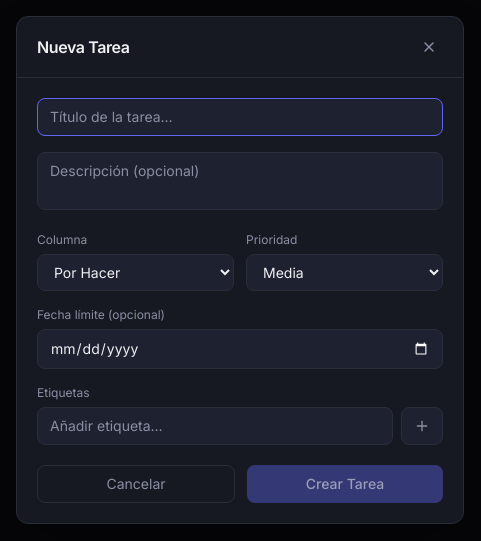
CreateTaskModal — validación › habilita el botón Crear Tarea cuando hay título
Type "Mi tarea" into the field with placeholder "Título de la tarea…" at (240, 117), box [37,98,443,136]
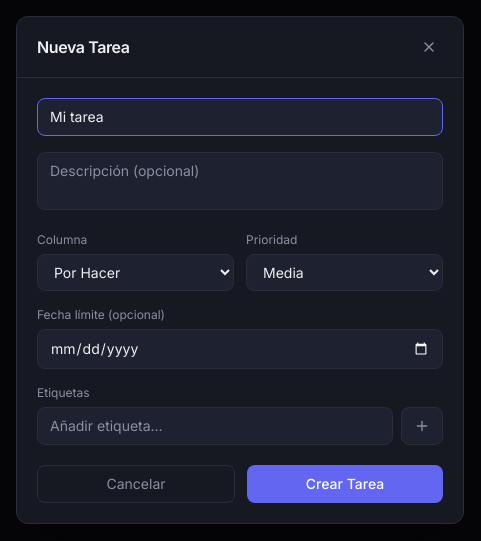
Check: the button "Crear Tarea" is enabled, box [247,465,443,503]
